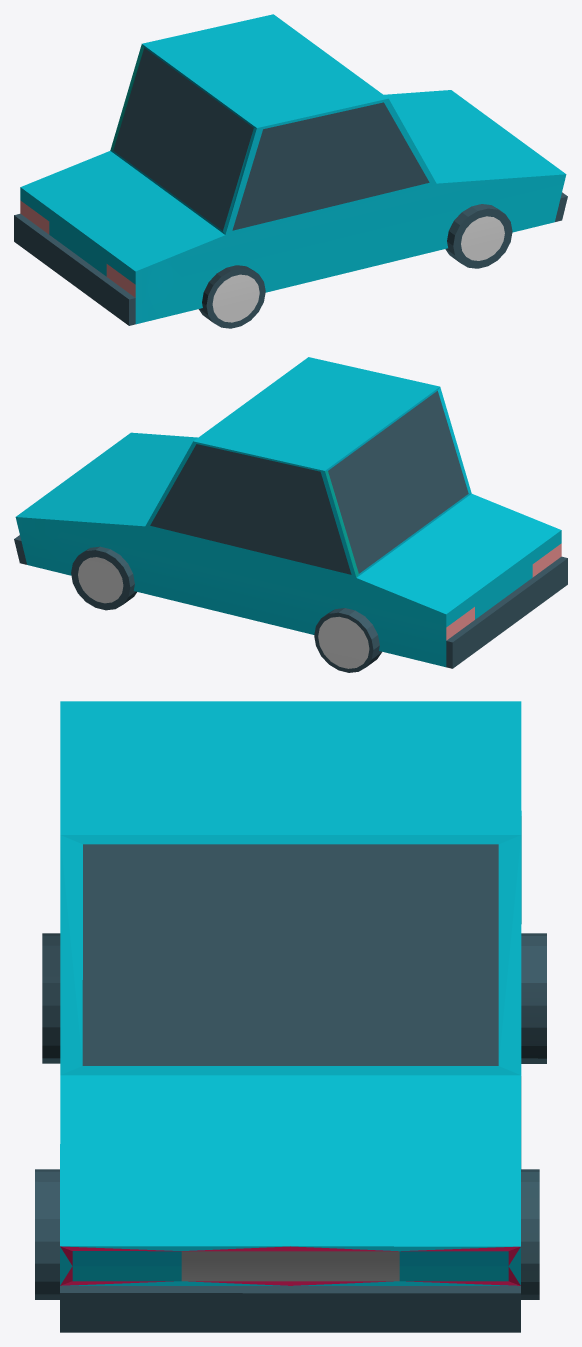
The model's file is car_4_3.dae.
The picture shows the model from 3 angles, top to bottom: view 1: azimuth 30°, elevation 25°; view 2: azimuth 150°, elevation 25°; view 3: azimuth 270°, elevation 25°; orthographic projection. The views are drawn at different scales.
Parts seen in each view (by area): view 1: Car_04.004; view 2: Car_04.004; view 3: Car_04.004.
Part boxes in pixels (x1=…): Car_04.004: x1=14, y1=14, x2=567, y2=328; Car_04.004: x1=14, y1=357, x2=567, y2=672; Car_04.004: x1=35, y1=701, x2=546, y2=1332.
Size of the model in its own units: 4.42 by 2.23 by 1.83.
Materials: 1 (1 with a texture image).
